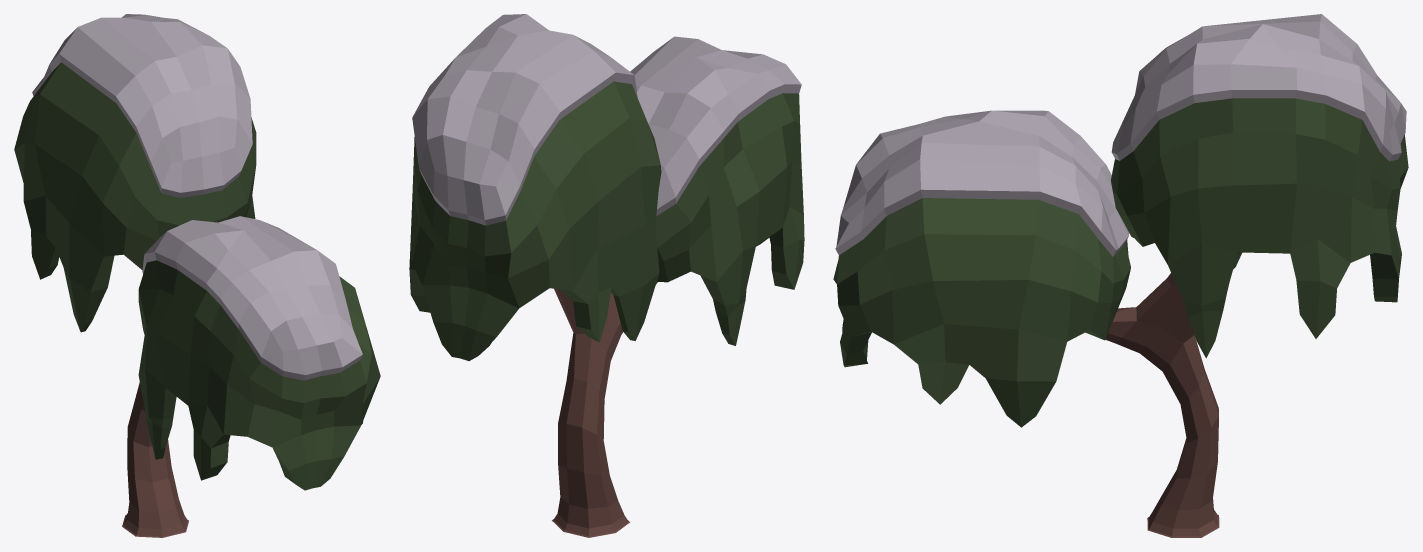
Rendered from Willow_Snow_5.glb.
3 renders of one model, left to right at view 1: azimuth 30°, elevation 25°; view 2: azimuth 150°, elevation 25°; view 3: azimuth 270°, elevation 25°, orthographic. The views are drawn at different scales.
Visible parts, largest first — view 1: Willow_Snow_5_Cube.141; view 2: Willow_Snow_5_Cube.141; view 3: Willow_Snow_5_Cube.141.
Part boxes in pixels (left/top/right/bottom): Willow_Snow_5_Cube.141: left=14, top=14, right=380, bottom=537; Willow_Snow_5_Cube.141: left=409, top=14, right=804, bottom=537; Willow_Snow_5_Cube.141: left=833, top=14, right=1408, bottom=537.
Bounding box in the file's own units: 1.01 × 2.46 × 2.49.
